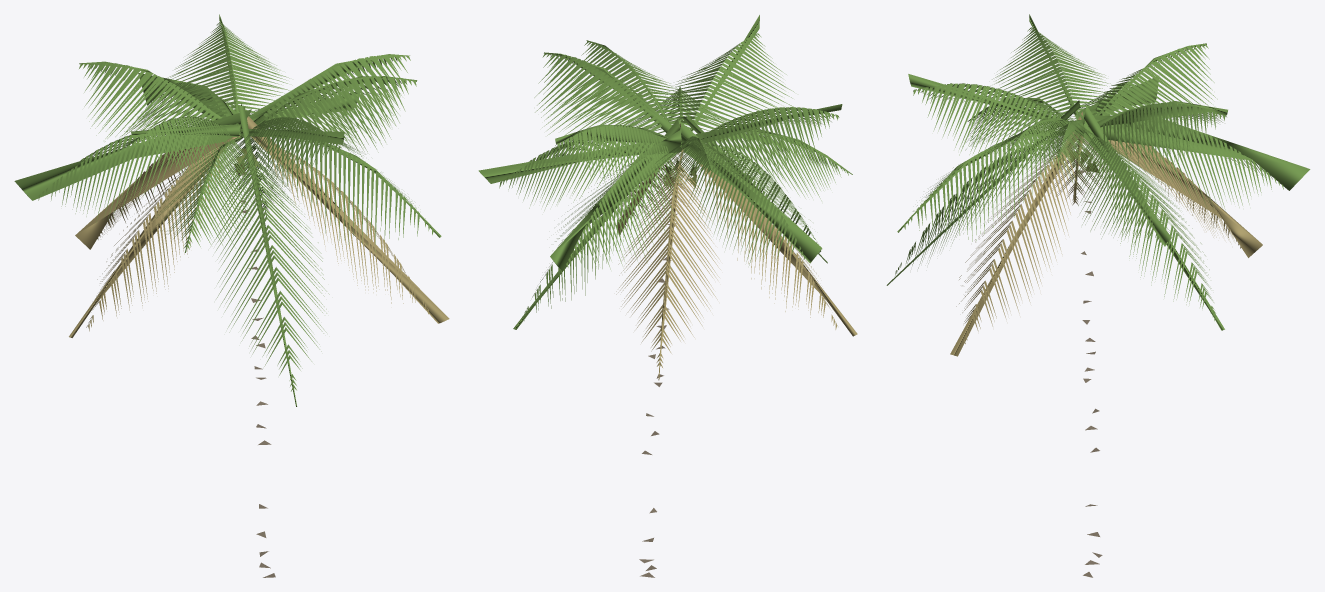
Rendered from city_palm_4_far.glb.
The picture shows the model from 3 angles, left to right: view 1: azimuth 30°, elevation 25°; view 2: azimuth 150°, elevation 25°; view 3: azimuth 270°, elevation 25°; orthographic projection. The views are drawn at different scales.
Parts seen in each view (by area): view 1: Frond0; view 2: Frond0; view 3: Frond0.
Part boxes in pixels (left/top/right/bottom): Frond0: left=14, top=14, right=449, bottom=577; Frond0: left=478, top=15, right=857, bottom=577; Frond0: left=886, top=14, right=1310, bottom=577.
Bounding box in the file's own units: 8.06 × 11.39 × 8.9.
